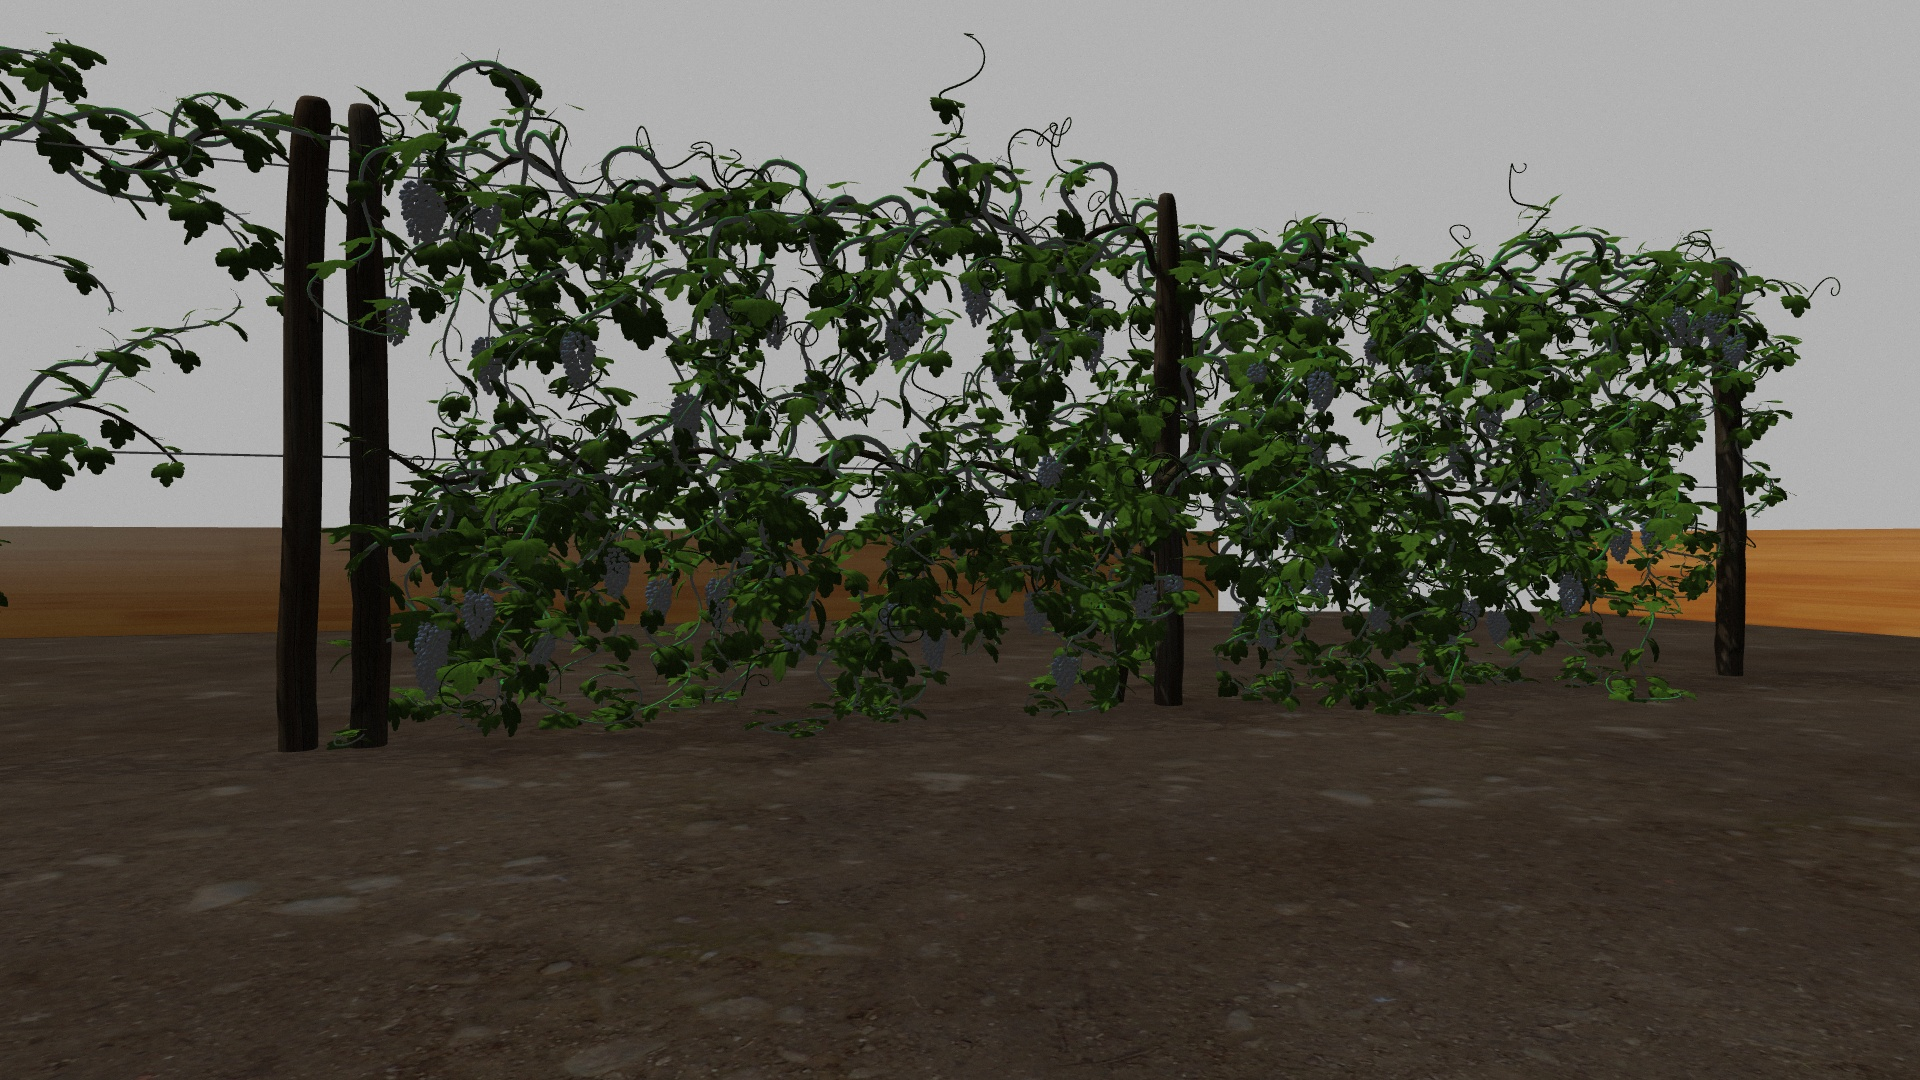grape: (398, 179, 447, 244), (559, 328, 597, 390), (471, 336, 506, 396), (462, 589, 495, 640), (960, 276, 992, 327), (603, 547, 632, 601), (413, 658, 448, 702), (670, 393, 704, 436), (385, 297, 413, 349), (414, 622, 450, 663), (705, 578, 732, 626), (922, 626, 948, 673), (645, 578, 674, 618), (1557, 574, 1585, 615), (1308, 369, 1335, 411), (705, 306, 733, 345), (1664, 305, 1689, 348), (1051, 653, 1077, 694), (527, 632, 556, 669), (885, 320, 909, 365), (764, 310, 789, 351), (1704, 310, 1731, 345), (1081, 330, 1104, 373), (1131, 585, 1158, 622), (1480, 402, 1506, 438), (783, 621, 814, 651), (473, 204, 502, 236), (1609, 525, 1633, 563), (1486, 611, 1513, 645), (1035, 458, 1063, 489), (1023, 595, 1047, 632), (1309, 563, 1335, 597), (1724, 334, 1749, 367), (1255, 620, 1279, 651), (902, 313, 924, 345), (1460, 596, 1481, 626), (1640, 522, 1659, 555), (1367, 607, 1391, 632), (1311, 297, 1333, 318), (1162, 574, 1185, 593), (1247, 363, 1269, 384), (1025, 508, 1043, 525)
